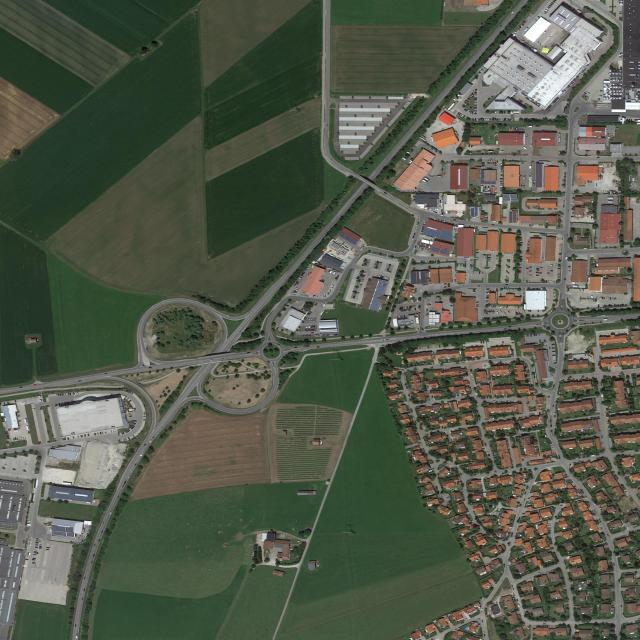large-vehicle: (448, 102, 456, 110), (31, 494, 36, 503), (35, 479, 39, 489), (431, 137, 436, 144), (62, 482, 73, 485), (455, 131, 459, 137)
small-vehicle: (422, 179, 428, 184), (424, 177, 430, 182), (24, 418, 28, 424), (401, 157, 407, 161), (26, 426, 30, 431), (320, 310, 324, 315), (329, 270, 333, 274), (591, 295, 595, 299), (507, 310, 511, 314), (517, 604, 521, 608), (341, 266, 345, 269), (333, 271, 336, 275), (330, 159, 334, 162), (384, 192, 388, 195), (418, 312, 422, 315), (497, 311, 500, 315), (304, 269, 308, 272), (123, 481, 127, 484), (122, 484, 125, 488), (313, 321, 317, 324), (277, 343, 281, 346), (267, 361, 271, 364), (513, 256, 517, 259), (565, 256, 568, 260), (407, 151, 411, 154), (465, 100, 469, 103), (530, 143, 533, 147), (520, 101, 524, 104), (517, 99, 521, 102), (549, 104, 553, 107), (551, 212, 555, 215), (532, 182, 536, 185), (561, 179, 565, 182), (576, 75, 580, 78), (468, 96, 472, 99), (467, 97, 471, 100), (548, 4, 552, 7), (546, 7, 550, 10), (545, 9, 549, 12), (623, 251, 628, 253), (601, 393, 603, 398), (590, 455, 595, 457), (408, 394, 411, 397), (439, 427, 442, 430), (427, 346, 430, 349), (473, 358, 476, 361), (447, 496, 450, 499), (478, 606, 481, 609), (465, 617, 468, 620), (421, 634, 424, 637), (426, 313, 429, 316), (414, 240, 417, 243), (492, 310, 495, 313), (500, 310, 503, 313), (414, 308, 417, 311), (492, 312, 495, 315), (486, 312, 489, 315), (487, 310, 490, 313), (492, 305, 495, 308), (332, 284, 335, 287), (131, 426, 134, 429), (130, 427, 133, 430), (124, 431, 127, 434), (127, 475, 130, 478), (140, 453, 143, 456), (142, 451, 145, 454), (113, 429, 116, 432), (129, 391, 132, 394), (142, 364, 145, 367), (66, 402, 69, 405), (64, 402, 67, 405), (61, 403, 64, 406), (3, 402, 6, 405), (311, 321, 314, 324), (306, 325, 309, 328), (309, 325, 312, 328), (311, 325, 314, 328), (313, 325, 316, 328), (307, 329, 310, 332), (305, 329, 308, 332), (311, 334, 314, 337), (329, 289, 332, 292), (319, 295, 322, 298), (276, 327, 279, 330), (109, 512, 112, 515), (286, 331, 289, 334), (152, 437, 155, 440), (518, 311, 521, 314), (517, 306, 520, 309), (514, 306, 517, 309), (559, 254, 562, 257), (559, 243, 562, 246), (512, 588, 515, 591), (484, 443, 487, 446), (607, 534, 610, 537), (599, 527, 602, 530), (573, 485, 576, 488), (457, 112, 460, 115), (460, 113, 463, 116), (461, 114, 464, 117), (463, 115, 466, 118), (464, 116, 467, 119), (465, 117, 468, 120), (464, 108, 467, 111), (465, 109, 468, 112), (495, 190, 498, 193), (565, 115, 568, 118), (548, 106, 551, 109), (566, 87, 569, 90), (567, 86, 570, 89), (570, 82, 573, 85), (532, 184, 535, 187), (584, 92, 587, 95), (552, 0, 555, 3), (511, 11, 514, 14), (499, 25, 502, 28), (471, 92, 474, 95), (535, 19, 538, 22), (581, 70, 584, 73), (548, 6, 551, 9), (545, 11, 548, 14), (523, 22, 526, 25), (420, 402, 424, 404), (414, 432, 418, 434), (493, 537, 497, 539), (421, 332, 423, 336), (397, 379, 401, 381), (502, 540, 506, 542), (359, 284, 363, 286), (362, 275, 366, 277), (363, 272, 367, 274), (386, 264, 390, 266), (335, 278, 339, 280), (335, 277, 339, 279), (332, 268, 336, 270), (360, 282, 364, 284), (481, 608, 483, 612), (460, 622, 464, 624), (462, 259, 466, 261), (440, 214, 444, 216), (411, 214, 415, 216), (495, 267, 499, 269), (303, 271, 307, 273), (15, 430, 19, 432), (4, 464, 8, 466), (69, 401, 71, 405), (56, 393, 58, 397), (149, 367, 153, 369), (32, 385, 36, 387), (63, 402, 65, 406), (16, 411, 20, 413), (31, 408, 35, 410), (296, 308, 300, 310), (324, 304, 326, 308), (309, 311, 313, 313), (300, 275, 304, 277), (295, 282, 299, 284), (301, 350, 305, 352), (309, 317, 311, 321), (46, 547, 50, 549), (35, 540, 39, 542), (247, 352, 251, 354), (210, 359, 214, 361), (75, 624, 77, 628), (33, 554, 37, 556), (32, 559, 36, 561), (552, 292, 556, 294), (598, 304, 600, 308), (551, 344, 555, 346), (504, 328, 508, 330), (572, 317, 576, 319), (604, 319, 608, 321), (518, 267, 522, 269), (633, 530, 637, 532), (538, 572, 542, 574), (597, 418, 601, 420), (553, 372, 555, 376), (592, 515, 596, 517), (464, 101, 468, 103), (463, 103, 467, 105), (446, 211, 448, 215), (568, 96, 570, 100), (556, 97, 560, 99), (567, 85, 571, 87), (572, 212, 576, 214), (572, 197, 576, 199), (532, 180, 536, 182), (478, 72, 482, 74), (470, 94, 474, 96), (605, 33, 609, 35), (406, 386, 408, 389), (441, 431, 443, 434), (413, 416, 415, 419), (426, 395, 428, 398), (432, 395, 434, 398), (488, 396, 490, 399), (497, 397, 500, 399), (502, 397, 505, 399), (418, 442, 421, 444), (442, 426, 444, 429), (465, 463, 468, 465), (484, 477, 487, 479), (471, 374, 473, 377), (402, 315, 404, 318), (420, 327, 422, 330), (502, 341, 504, 344), (480, 341, 482, 344), (419, 346, 421, 349), (471, 358, 473, 361), (361, 279, 364, 281), (362, 276, 365, 278), (374, 263, 377, 265), (389, 271, 392, 273), (337, 276, 340, 278), (338, 273, 341, 275), (335, 272, 338, 274), (329, 267, 332, 269), (355, 286, 358, 288), (492, 584, 494, 587), (356, 292, 359, 294), (496, 601, 498, 604), (477, 623, 480, 625), (449, 621, 451, 624), (382, 276, 384, 279), (357, 276, 360, 278), (428, 303, 431, 305), (484, 254, 487, 256), (470, 268, 473, 270), (444, 266, 446, 269), (460, 264, 462, 267), (420, 260, 422, 263), (398, 259, 400, 262), (489, 310, 491, 313), (497, 255, 500, 257), (438, 219, 440, 222), (436, 218, 438, 221), (412, 238, 414, 241), (430, 239, 433, 241), (415, 245, 417, 248), (444, 283, 447, 285), (425, 285, 428, 287), (415, 299, 417, 302), (407, 300, 409, 303), (399, 301, 401, 304), (403, 306, 405, 309), (414, 305, 416, 308), (407, 309, 409, 312), (405, 309, 407, 312), (497, 306, 500, 308), (490, 305, 492, 308), (500, 293, 502, 296), (486, 302, 489, 304), (476, 304, 479, 306), (476, 301, 479, 303), (451, 305, 454, 307), (132, 436, 135, 438), (128, 429, 131, 431), (125, 431, 128, 433), (123, 432, 125, 435), (121, 432, 123, 435), (133, 424, 136, 426), (24, 437, 26, 440), (15, 437, 17, 440), (132, 425, 135, 427), (128, 437, 130, 440), (135, 463, 137, 466), (100, 432, 102, 435), (94, 433, 96, 436), (84, 434, 86, 437), (80, 435, 82, 438), (73, 436, 75, 439), (38, 441, 41, 443), (123, 439, 125, 442), (6, 435, 9, 437), (6, 434, 9, 436), (71, 401, 73, 404), (129, 415, 132, 417), (131, 392, 133, 395), (75, 392, 77, 395), (64, 393, 66, 396), (62, 393, 64, 396), (60, 393, 62, 396), (104, 373, 107, 375), (79, 380, 82, 382), (6, 433, 9, 435), (28, 431, 30, 434), (18, 427, 20, 430), (40, 408, 43, 410), (60, 403, 62, 406), (315, 304, 318, 306), (335, 334, 338, 336), (313, 329, 316, 331), (311, 329, 314, 331), (310, 329, 312, 332), (309, 334, 311, 337), (305, 334, 308, 336), (303, 334, 305, 337), (307, 317, 309, 320), (324, 295, 326, 298), (322, 295, 324, 298), (313, 295, 316, 297), (302, 273, 305, 275), (301, 274, 304, 276), (297, 281, 300, 283), (294, 284, 297, 286), (293, 285, 296, 287), (295, 289, 298, 291), (317, 346, 320, 348), (286, 305, 289, 307), (285, 329, 288, 331), (46, 549, 49, 551), (94, 544, 96, 547), (98, 539, 100, 542), (101, 530, 103, 533), (102, 522, 104, 525), (34, 551, 37, 553), (238, 331, 241, 333), (201, 361, 204, 363), (93, 554, 95, 557), (32, 563, 35, 565), (439, 205, 441, 208), (615, 297, 617, 300), (609, 297, 611, 300), (602, 296, 604, 299), (600, 296, 602, 299), (595, 299, 597, 302), (553, 296, 556, 298), (574, 306, 576, 309), (552, 347, 555, 349), (539, 339, 541, 342), (525, 341, 527, 344), (512, 342, 515, 344), (538, 333, 540, 336), (530, 334, 532, 337), (527, 334, 529, 337), (567, 314, 570, 316), (522, 281, 524, 284), (528, 280, 530, 283), (540, 267, 543, 269), (526, 273, 529, 275), (518, 271, 521, 273), (519, 251, 522, 253), (547, 281, 549, 284), (553, 281, 555, 284), (576, 255, 578, 258), (559, 253, 562, 255), (552, 354, 555, 356), (635, 373, 637, 376), (588, 506, 591, 508), (522, 625, 525, 627), (543, 623, 546, 625), (517, 599, 519, 602), (511, 584, 513, 587), (607, 423, 610, 425), (510, 441, 513, 443), (539, 412, 541, 415), (597, 416, 600, 418), (554, 415, 556, 418), (554, 412, 556, 415), (617, 375, 619, 378), (527, 376, 530, 378), (554, 367, 557, 369), (583, 456, 586, 458), (613, 563, 615, 566), (577, 493, 580, 495), (560, 505, 563, 507), (523, 513, 526, 515), (523, 499, 526, 501), (578, 457, 581, 459), (523, 495, 525, 498), (524, 492, 527, 494), (523, 487, 526, 489), (530, 479, 532, 482), (570, 482, 573, 484), (565, 476, 568, 478), (564, 474, 567, 476), (563, 472, 566, 474), (522, 458, 524, 461), (441, 202, 443, 205), (475, 118, 477, 121), (484, 118, 486, 121), (486, 118, 488, 121), (488, 118, 490, 121), (474, 113, 477, 115), (470, 111, 472, 114), (468, 144, 470, 147), (501, 183, 504, 185), (443, 212, 445, 215), (433, 208, 435, 211), (441, 199, 443, 202), (492, 167, 494, 170), (482, 163, 485, 165), (500, 166, 503, 168), (493, 162, 495, 165), (495, 162, 497, 165), (494, 165, 497, 167), (501, 163, 503, 166), (566, 234, 568, 237), (506, 118, 508, 121), (551, 102, 554, 104), (552, 101, 555, 103), (553, 100, 556, 102), (554, 99, 557, 101), (555, 98, 558, 100), (568, 84, 571, 86), (571, 81, 574, 83), (522, 118, 524, 121), (467, 99, 470, 101), (532, 224, 534, 227), (577, 217, 579, 220), (592, 217, 594, 220), (562, 184, 565, 186), (522, 162, 524, 165), (600, 90, 603, 92), (550, 4, 553, 6), (551, 2, 554, 4), (482, 67, 485, 69), (481, 69, 484, 71), (480, 70, 483, 72), (477, 73, 480, 75), (491, 95, 494, 97), (488, 98, 491, 100), (474, 90, 477, 92), (469, 95, 472, 97), (619, 17, 622, 19), (580, 72, 583, 74), (579, 73, 582, 75), (544, 13, 547, 15), (538, 16, 541, 18), (523, 21, 526, 23), (604, 34, 607, 36), (514, 31, 517, 33), (518, 256, 523, 257), (424, 439, 426, 441), (474, 474, 476, 476), (443, 432, 445, 434), (427, 386, 429, 388), (404, 315, 406, 317), (422, 328, 424, 330), (439, 345, 441, 347), (416, 347, 418, 349), (390, 258, 392, 260), (332, 271, 334, 273), (328, 270, 330, 272), (484, 634, 486, 636), (480, 605, 482, 607), (385, 277, 387, 279), (380, 276, 382, 278), (356, 278, 360, 279), (470, 260, 474, 261), (423, 261, 425, 263), (426, 261, 428, 263), (358, 274, 362, 275), (414, 261, 416, 263), (402, 309, 404, 311), (466, 226, 468, 228), (455, 224, 457, 226), (418, 222, 420, 224), (416, 225, 418, 227), (414, 233, 416, 235), (423, 235, 427, 236), (495, 266, 499, 267), (491, 310, 493, 312), (413, 297, 415, 299), (402, 301, 404, 303), (397, 302, 399, 304), (447, 285, 451, 286), (500, 306, 502, 308), (495, 306, 497, 308), (127, 430, 129, 432), (144, 444, 146, 446), (22, 438, 24, 440), (20, 438, 22, 440), (13, 439, 15, 441), (125, 439, 127, 441), (82, 435, 84, 437), (77, 436, 79, 438), (67, 438, 69, 440), (54, 438, 56, 440), (120, 440, 122, 442), (129, 400, 131, 402), (127, 398, 129, 400), (69, 393, 71, 395), (58, 394, 60, 396), (19, 387, 23, 388), (5, 432, 9, 433), (19, 427, 21, 429), (13, 428, 15, 430), (8, 429, 10, 431), (18, 421, 22, 422), (18, 415, 20, 417), (7, 402, 9, 404), (314, 332, 318, 333), (117, 496, 119, 498), (317, 296, 319, 298), (295, 288, 299, 289), (279, 329, 281, 331), (39, 545, 43, 546), (35, 544, 39, 545), (35, 542, 39, 543), (27, 521, 31, 522), (76, 636, 78, 638), (91, 561, 93, 563), (25, 559, 29, 560), (435, 208, 437, 210), (593, 300, 595, 302), (506, 306, 508, 308), (506, 289, 508, 291), (623, 257, 627, 258), (572, 356, 574, 358), (549, 347, 551, 349), (535, 334, 537, 336), (618, 333, 620, 335), (607, 334, 609, 336), (543, 325, 547, 326), (612, 304, 614, 306), (536, 267, 540, 268), (518, 270, 522, 271), (518, 265, 522, 266), (519, 246, 523, 247), (527, 249, 531, 250), (527, 247, 531, 248), (527, 245, 531, 246), (527, 243, 531, 244), (519, 242, 523, 243), (564, 278, 566, 280), (551, 270, 553, 272), (550, 265, 554, 266), (569, 270, 571, 272), (567, 268, 571, 269), (584, 354, 586, 356), (614, 304, 616, 306), (600, 514, 602, 516), (600, 436, 602, 438), (552, 405, 554, 407), (595, 403, 599, 404), (553, 390, 555, 392), (505, 363, 507, 365), (509, 363, 511, 365), (525, 367, 529, 368), (585, 496, 587, 498), (554, 507, 556, 509), (473, 119, 475, 121), (495, 118, 497, 120), (498, 119, 500, 121), (459, 113, 461, 115), (495, 111, 497, 113), (493, 111, 495, 113), (469, 111, 471, 113), (471, 145, 473, 147), (485, 186, 487, 188), (488, 186, 490, 188), (497, 194, 499, 196), (431, 208, 433, 210), (500, 172, 504, 173), (489, 162, 491, 164), (491, 162, 493, 164), (493, 159, 497, 160), (501, 161, 503, 163), (502, 111, 504, 113), (509, 119, 511, 121), (551, 103, 553, 105), (544, 225, 546, 227), (545, 165, 549, 166), (599, 95, 603, 96), (620, 11, 622, 13), (522, 24, 524, 26), (521, 25, 523, 27), (519, 26, 521, 28), (592, 51, 594, 53), (487, 396, 488, 399), (493, 401, 496, 402), (500, 400, 503, 401), (489, 456, 490, 459), (486, 491, 489, 492), (483, 341, 484, 344), (426, 346, 427, 349), (484, 361, 487, 362), (462, 362, 465, 363), (476, 392, 477, 395), (464, 376, 467, 377), (367, 262, 370, 263), (380, 262, 383, 263), (484, 631, 485, 634), (487, 615, 488, 618), (327, 124, 328, 127), (488, 257, 491, 258), (488, 260, 491, 261), (488, 262, 491, 263), (443, 266, 444, 269), (463, 264, 464, 267), (465, 264, 466, 267), (465, 261, 466, 264), (479, 271, 480, 274), (473, 271, 474, 274), (488, 255, 491, 256), (484, 257, 487, 258), (478, 229, 479, 232), (496, 264, 499, 265), (496, 258, 499, 259), (422, 285, 425, 286), (417, 299, 418, 302), (401, 301, 402, 304), (402, 306, 403, 309), (407, 306, 408, 309), (404, 309, 405, 312), (448, 286, 451, 287), (478, 286, 481, 287), (486, 292, 489, 293), (486, 293, 489, 294), (473, 289, 476, 290), (486, 299, 489, 300), (476, 306, 479, 307), (473, 292, 476, 293), (473, 291, 476, 292), (134, 422, 137, 423), (143, 420, 146, 421), (143, 417, 146, 418), (17, 438, 18, 441), (105, 431, 106, 434), (7, 438, 10, 439), (6, 437, 9, 438), (143, 415, 146, 416), (17, 427, 18, 430), (143, 414, 146, 415), (15, 400, 16, 403), (330, 335, 333, 336), (323, 335, 326, 336), (294, 291, 297, 292), (294, 347, 297, 348), (313, 317, 314, 320), (311, 317, 312, 320), (35, 547, 38, 548), (39, 548, 42, 549), (39, 546, 42, 547), (39, 543, 42, 544), (35, 545, 38, 546), (36, 539, 39, 540), (28, 539, 31, 540), (28, 541, 31, 542), (28, 542, 31, 543), (28, 544, 31, 545), (28, 545, 31, 546), (34, 550, 37, 551), (34, 553, 37, 554), (77, 633, 78, 636), (255, 355, 258, 356), (222, 358, 225, 359), (82, 597, 83, 600), (84, 588, 85, 591), (84, 577, 85, 580), (32, 562, 35, 563), (33, 558, 36, 559), (437, 208, 438, 211), (604, 296, 605, 299), (583, 289, 584, 292), (580, 289, 581, 292), (552, 294, 555, 295), (509, 289, 510, 292), (505, 284, 508, 285), (552, 351, 555, 352), (534, 333, 535, 336), (563, 332, 564, 335), (509, 326, 512, 327), (541, 280, 542, 283), (536, 272, 539, 273), (539, 272, 542, 273), (536, 275, 539, 276), (529, 275, 532, 276), (519, 261, 522, 262), (519, 253, 522, 254), (528, 241, 531, 242), (537, 270, 540, 271), (529, 271, 532, 272), (546, 280, 547, 283), (551, 281, 552, 284), (557, 277, 560, 278), (557, 276, 560, 277), (557, 275, 560, 276), (547, 273, 550, 274), (558, 268, 561, 269), (526, 268, 529, 269), (568, 266, 571, 267), (529, 267, 532, 268), (529, 268, 532, 269), (595, 243, 598, 244), (597, 157, 600, 158), (553, 360, 556, 361), (527, 382, 530, 383), (534, 376, 535, 379), (600, 443, 603, 444), (528, 498, 531, 499), (519, 234, 522, 235), (595, 238, 598, 239), (472, 118, 473, 121), (477, 118, 478, 121), (479, 118, 480, 121), (483, 118, 484, 121), (490, 118, 491, 121), (497, 118, 498, 121), (500, 118, 501, 121), (504, 111, 505, 114), (474, 98, 477, 99), (474, 99, 477, 100), (474, 103, 477, 104), (474, 104, 477, 105), (474, 106, 477, 107), (474, 107, 477, 108), (474, 109, 477, 110), (474, 110, 477, 111), (463, 105, 466, 106), (463, 106, 466, 107), (463, 108, 466, 109), (472, 111, 473, 114), (500, 178, 503, 179), (500, 181, 503, 182), (500, 185, 503, 186), (500, 186, 503, 187), (490, 188, 491, 191), (421, 209, 424, 210), (442, 195, 443, 198), (440, 200, 441, 203), (501, 170, 504, 171), (501, 169, 504, 170), (489, 167, 490, 170), (488, 167, 489, 170), (482, 167, 485, 168), (482, 165, 485, 166), (482, 162, 485, 163), (488, 162, 489, 165), (490, 159, 493, 160), (511, 118, 512, 121), (508, 118, 509, 121), (576, 143, 577, 146), (520, 159, 523, 160), (560, 217, 563, 218), (571, 216, 574, 217), (568, 209, 569, 212), (572, 203, 575, 204), (573, 199, 576, 200), (474, 94, 477, 95), (474, 92, 477, 93), (475, 89, 478, 90), (473, 90, 474, 93), (474, 95, 477, 96), (613, 39, 614, 42), (488, 452, 489, 454), (401, 316, 402, 318), (397, 316, 398, 318), (415, 347, 416, 349), (392, 255, 394, 256), (387, 278, 388, 280), (384, 277, 385, 279), (457, 264, 458, 266), (468, 271, 469, 273), (465, 226, 466, 228), (492, 224, 494, 225), (454, 219, 456, 220), (413, 236, 414, 238), (448, 283, 450, 284), (414, 300, 415, 302), (411, 306, 412, 308), (413, 306, 414, 308), (487, 289, 489, 290), (486, 301, 488, 302), (134, 423, 136, 424), (88, 434, 89, 436), (102, 432, 103, 434), (77, 392, 78, 394), (68, 393, 69, 395), (15, 428, 16, 430), (10, 428, 11, 430), (143, 412, 145, 413), (331, 287, 333, 288), (327, 335, 329, 336), (312, 332, 314, 333), (612, 298, 613, 300), (608, 298, 609, 300), (512, 289, 513, 291), (537, 269, 539, 270), (621, 605, 622, 607), (607, 417, 609, 418), (492, 119, 493, 121), (502, 119, 503, 121), (492, 111, 493, 113), (474, 101, 476, 102), (475, 112, 477, 113), (501, 175, 503, 176), (501, 180, 503, 181), (487, 189, 488, 191), (430, 208, 431, 210), (486, 162, 487, 164), (491, 168, 492, 170), (497, 161, 498, 163), (530, 224, 531, 226), (591, 216, 592, 218), (587, 216, 588, 218), (533, 191, 535, 192), (620, 13, 622, 14), (613, 34, 614, 36), (613, 31, 614, 33), (624, 333, 625, 334), (487, 296, 489, 296), (500, 189, 503, 189)
storage-tank: (616, 79, 623, 82), (618, 90, 622, 93), (605, 85, 609, 88), (611, 72, 615, 75), (615, 97, 618, 100), (612, 97, 615, 100), (606, 97, 609, 100), (608, 72, 611, 75), (612, 76, 615, 79), (619, 83, 622, 86), (608, 70, 612, 72), (618, 73, 622, 75), (618, 77, 622, 79), (609, 79, 613, 81), (612, 86, 616, 88), (619, 70, 622, 72), (615, 90, 618, 92), (609, 90, 612, 92), (619, 93, 622, 95), (616, 93, 619, 95), (613, 93, 616, 95), (610, 93, 613, 95), (605, 93, 608, 95), (618, 97, 621, 99), (609, 97, 612, 99), (603, 97, 605, 100), (615, 73, 618, 75), (615, 77, 618, 79), (609, 77, 612, 79), (617, 83, 620, 85), (615, 83, 617, 86), (612, 83, 615, 85), (605, 83, 608, 85), (615, 86, 618, 88), (609, 86, 612, 88), (606, 90, 608, 92), (613, 90, 615, 92), (613, 79, 615, 81), (610, 83, 612, 85), (607, 83, 609, 85), (619, 87, 621, 89), (604, 83, 605, 85)
